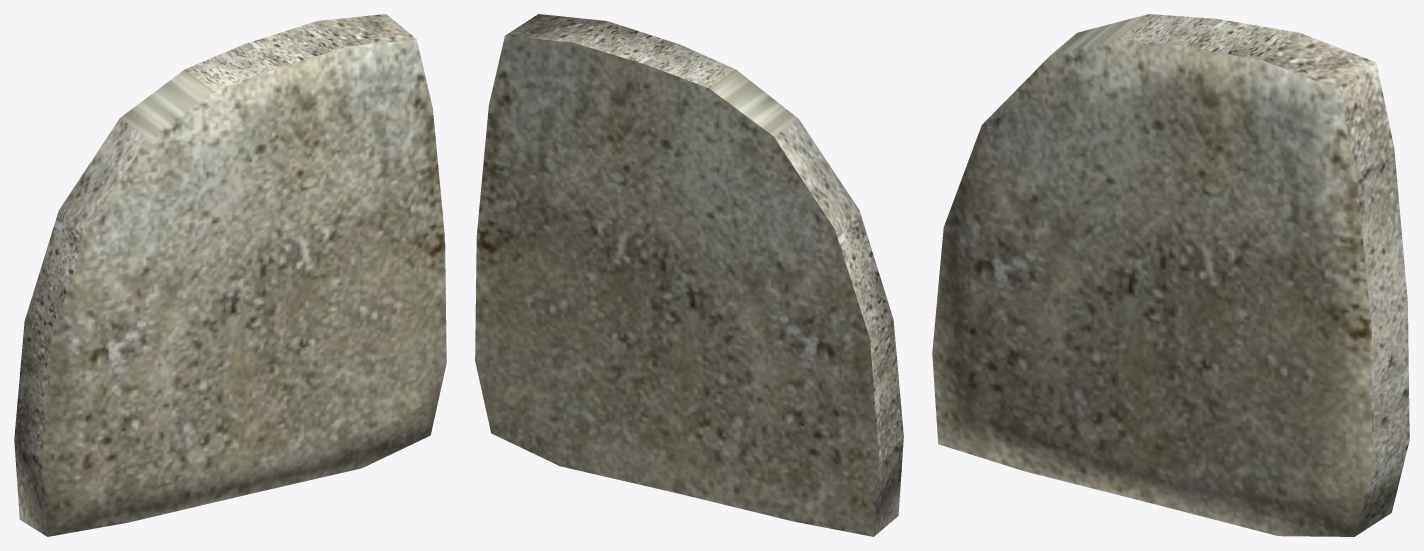
The model's file is furniture_duhoc_couch_cushion2_d3.glb.
3 views of the same model, side by side, from view 1: azimuth 30°, elevation 25°; view 2: azimuth 150°, elevation 25°; view 3: azimuth 330°, elevation 25° (orthographic). The views are drawn at different scales.
Size of the model in its own units: 26.85 by 27.24 by 4.18.
1 material, 1 textured.
